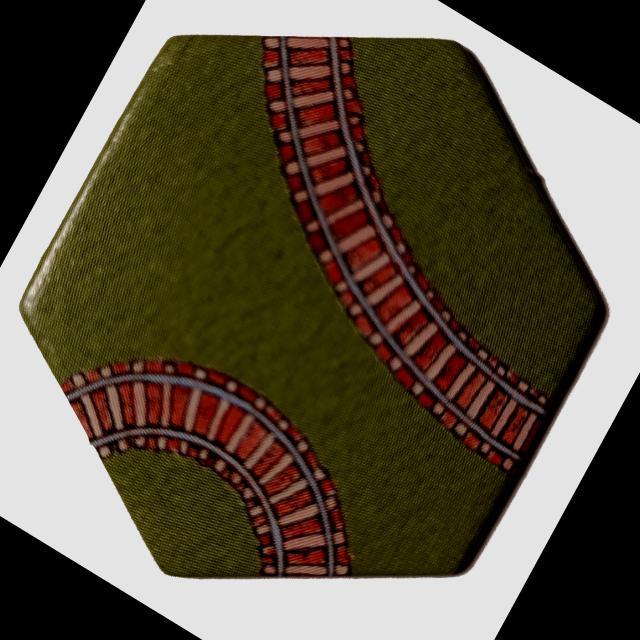15_1: (17, 33, 600, 579)
